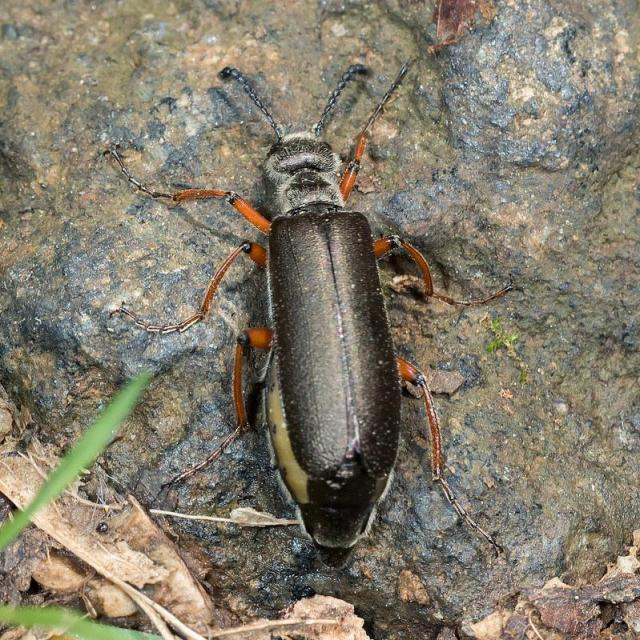BlisterBeetle-Adult-: (136, 24, 494, 566)
